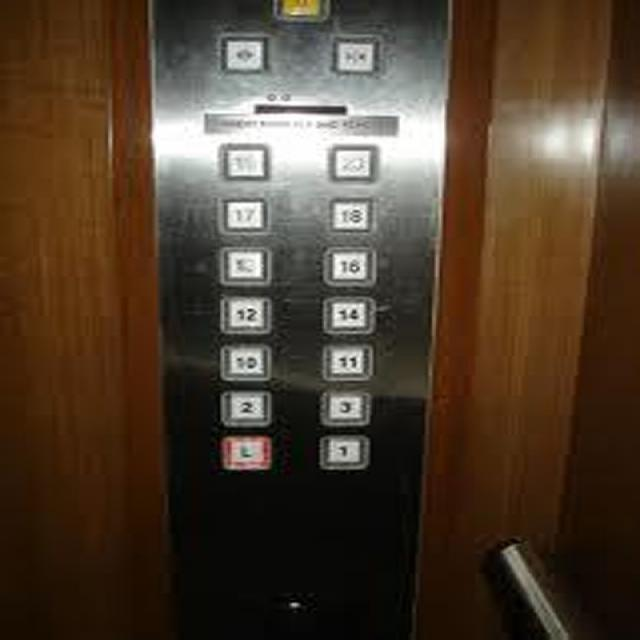1: (316, 433, 371, 471)
10: (217, 341, 271, 380)
11: (318, 342, 374, 380)
12: (216, 293, 272, 334)
14: (320, 295, 376, 334)
16: (317, 245, 376, 287)
17: (213, 195, 270, 234)
18: (324, 194, 376, 233)
2: (215, 386, 273, 427)
3: (315, 389, 372, 427)
L: (216, 433, 271, 472)
blur: (324, 141, 379, 184), (215, 245, 269, 287), (216, 142, 271, 180)
close: (327, 32, 380, 74)
open: (215, 32, 268, 73)
